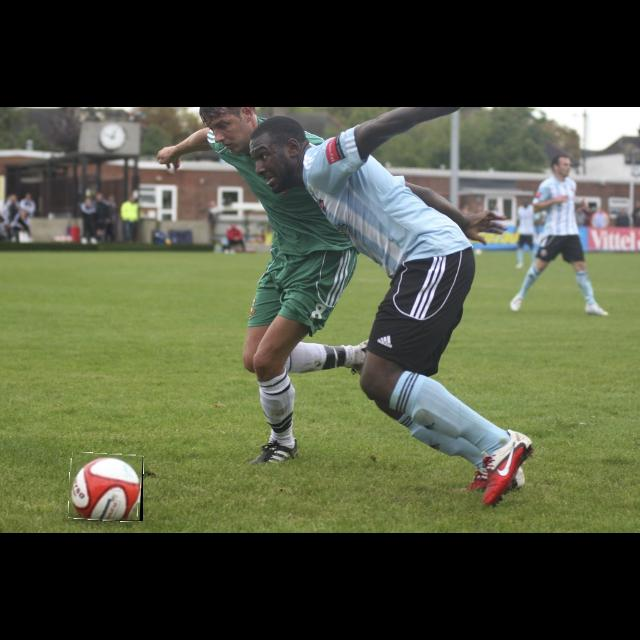Football: (69, 453, 143, 521)
